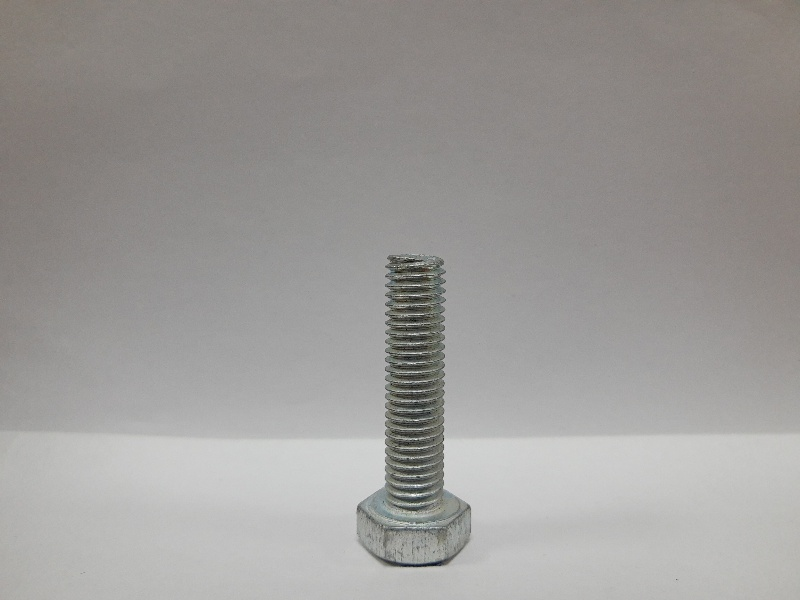pf: (354, 249, 481, 576)
